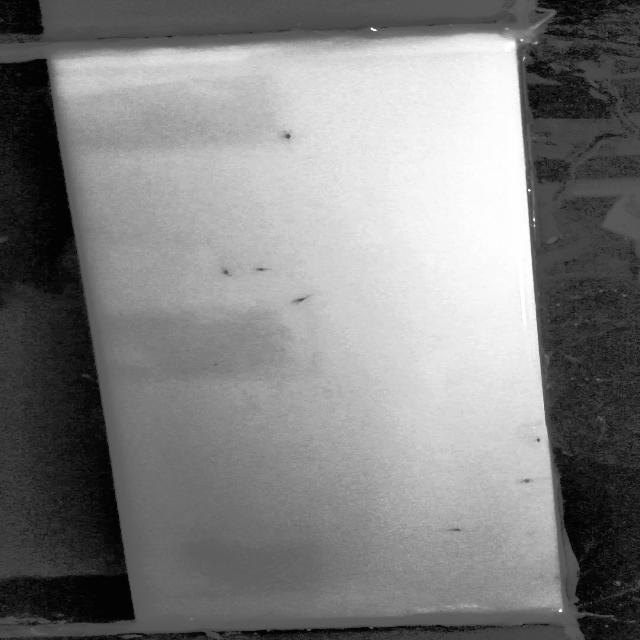shrimp: (242, 254, 283, 282), (205, 260, 243, 286), (434, 517, 479, 537), (284, 288, 316, 311), (269, 128, 302, 146), (522, 429, 546, 447), (512, 476, 542, 490)
